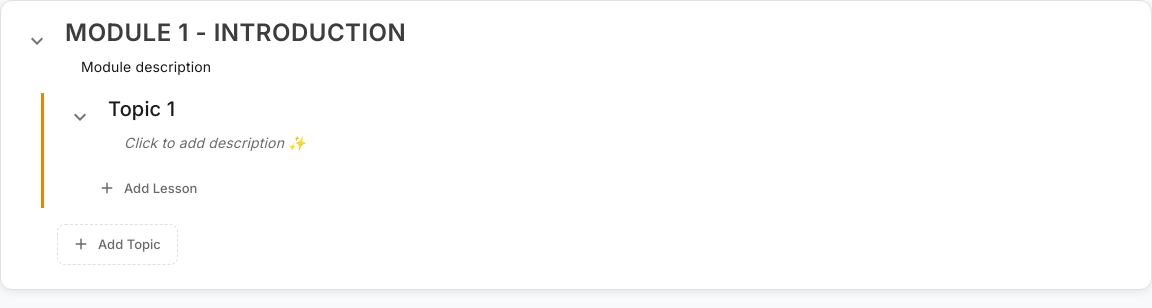
Test case: ModuleCard › collapses content when expand button clicked
Click the button named "collapse" at (37, 41), box [17, 21, 57, 61]
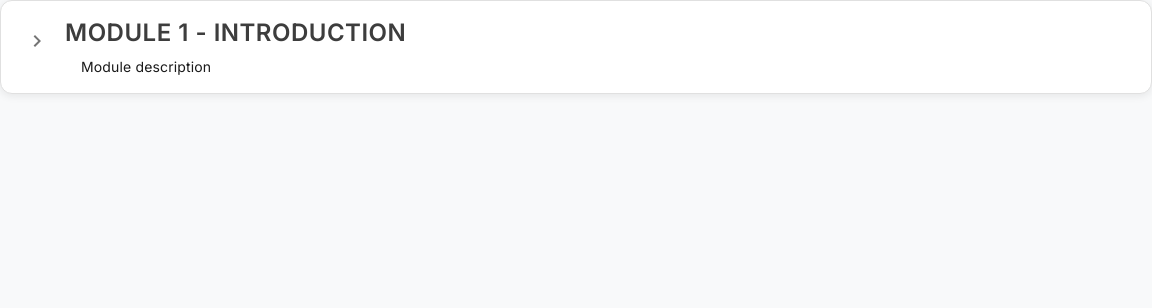
Now the button named "expand" is shown, box [17, 21, 57, 61]
